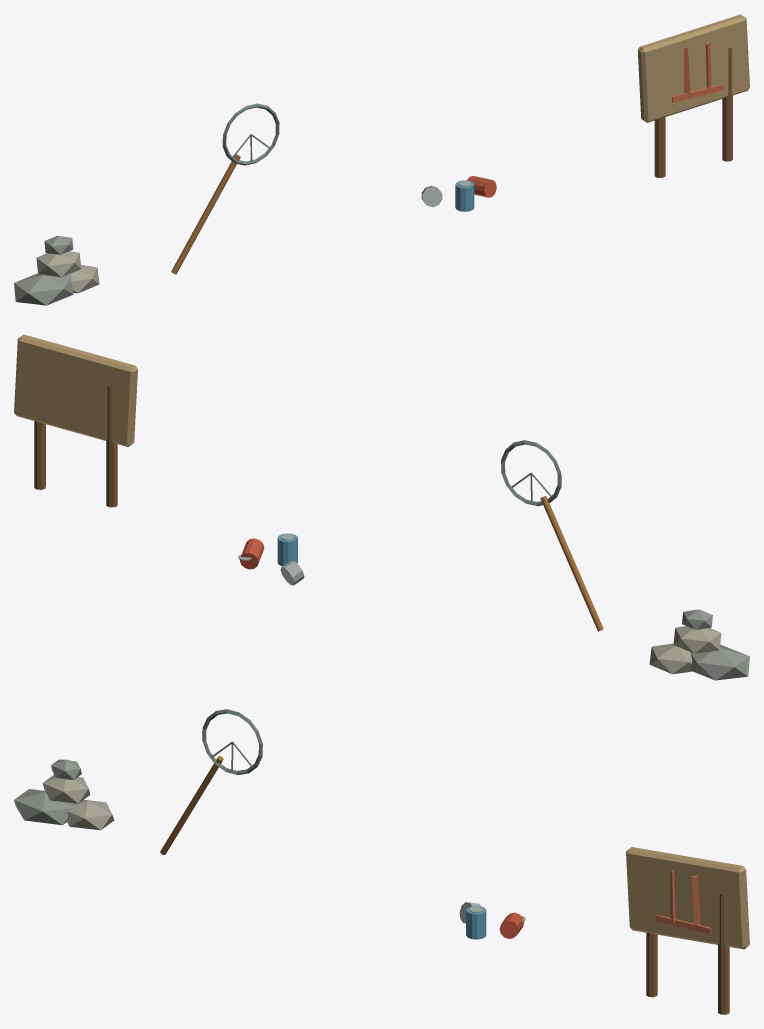
The model's file is riverbank_props.glb.
3 renders of one model, top to bottom at view 1: azimuth 30°, elevation 25°; view 2: azimuth 150°, elevation 25°; view 3: azimuth 330°, elevation 25°, orthographic. The views are drawn at different scales.
Parts seen in each view (by area): view 1: OldWarningSign, CairnBaseA, CairnMiddle, SignPost_4.65, InsectNetHandle, InsectNetRing, SignPost_3.75, CairnBaseB, CanUpright; view 2: OldWarningSign, CairnBaseA, CairnMiddle, SignPost_3.75, CairnBaseB, InsectNetHandle, InsectNetRing, SignPost_4.65; view 3: OldWarningSign, CairnBaseA, CairnBaseB, SignPost_4.65, CairnMiddle, InsectNetRing, SignPost_3.75, InsectNetHandle, CanUpright, CairnTop.
Part boxes in pixels (bbox=[...]): OldWarningSign: bbox=[637, 14, 749, 122]; CairnBaseA: bbox=[14, 273, 73, 305]; CairnMiddle: bbox=[36, 251, 81, 277]; SignPost_4.65: bbox=[722, 47, 732, 161]; InsectNetHandle: bbox=[171, 154, 240, 274]; InsectNetRing: bbox=[222, 103, 279, 165]; SignPost_3.75: bbox=[654, 117, 665, 177]; CairnBaseB: bbox=[67, 265, 99, 293]; CanUpright: bbox=[455, 180, 474, 211]; OldWarningSign: bbox=[14, 334, 137, 446]; CairnBaseA: bbox=[690, 644, 749, 680]; CairnMiddle: bbox=[673, 626, 721, 653]; SignPost_3.75: bbox=[106, 386, 117, 507]; CairnBaseB: bbox=[649, 643, 692, 674]; InsectNetHandle: bbox=[540, 496, 603, 631]; InsectNetRing: bbox=[501, 440, 561, 506]; SignPost_4.65: bbox=[34, 421, 45, 489]; OldWarningSign: bbox=[626, 847, 749, 949]; CairnBaseA: bbox=[14, 789, 73, 825]; CairnBaseB: bbox=[66, 800, 114, 830]; SignPost_4.65: bbox=[718, 893, 729, 1014]; CairnMiddle: bbox=[42, 775, 90, 803]; InsectNetRing: bbox=[202, 709, 262, 774]; SignPost_3.75: bbox=[646, 932, 657, 997]; InsectNetHandle: bbox=[160, 756, 223, 854]; CanUpright: bbox=[466, 906, 486, 939]; CairnTop: bbox=[51, 759, 81, 779].
Bounding box in the file's own units: 9.47 × 2.14 × 1.01.
